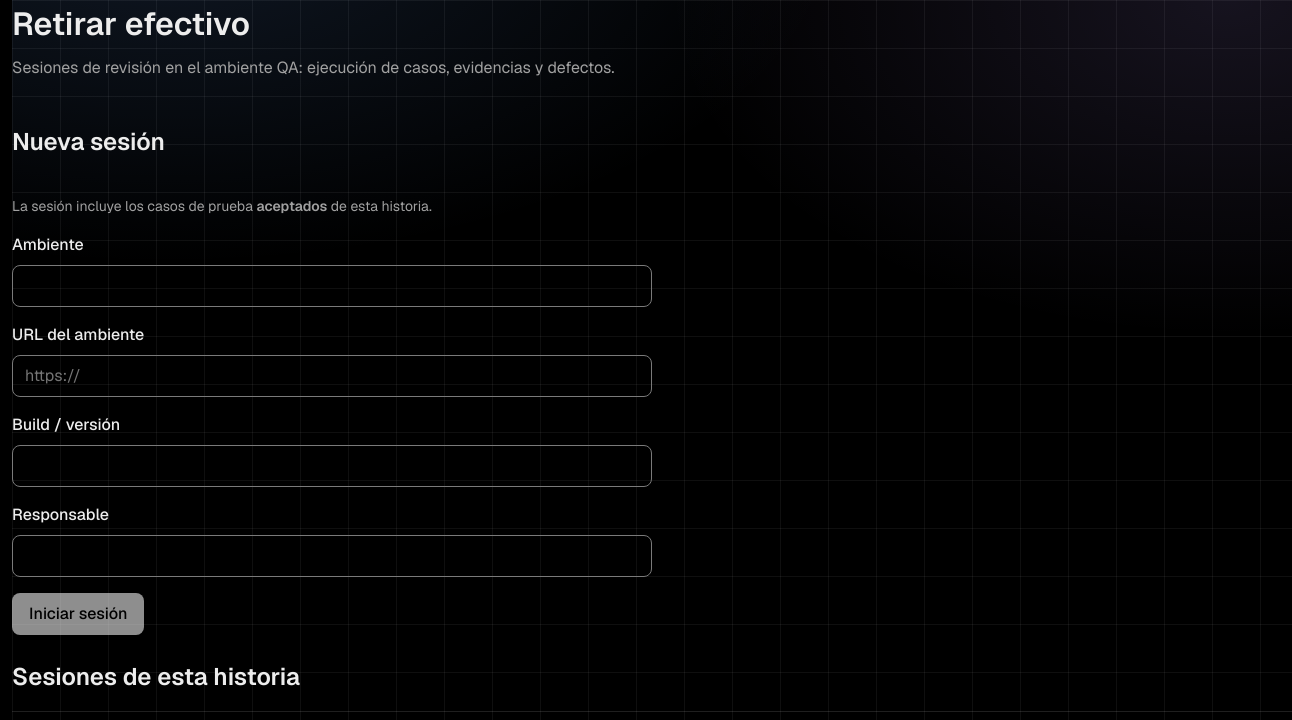
Test: SessionsPage › explica por qué no se puede iniciar sin casos aceptados
The width and height of the screenshot is (1292, 720).
Type "QA" into the field labelled "Ambiente" at (332, 286), box [12,265,652,307]
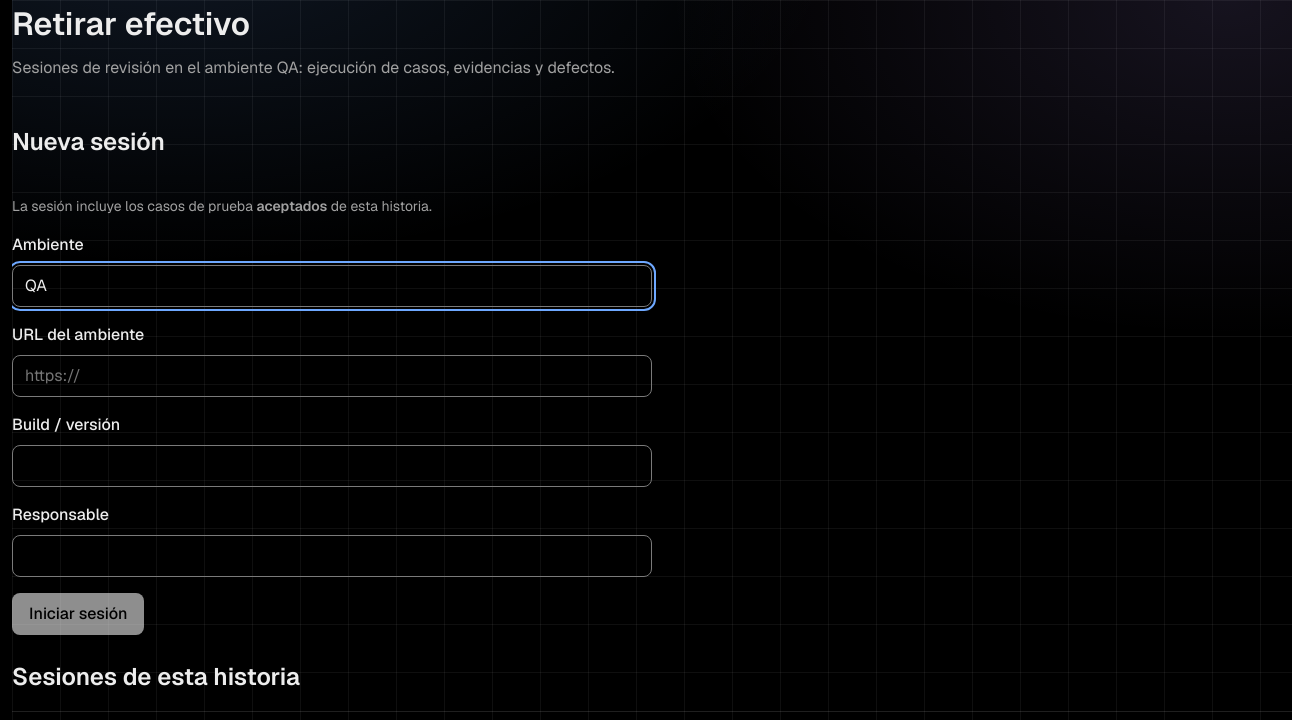
Type "https://qa.example.com" into the field labelled "URL del ambiente" at (332, 376), box [12,355,652,397]
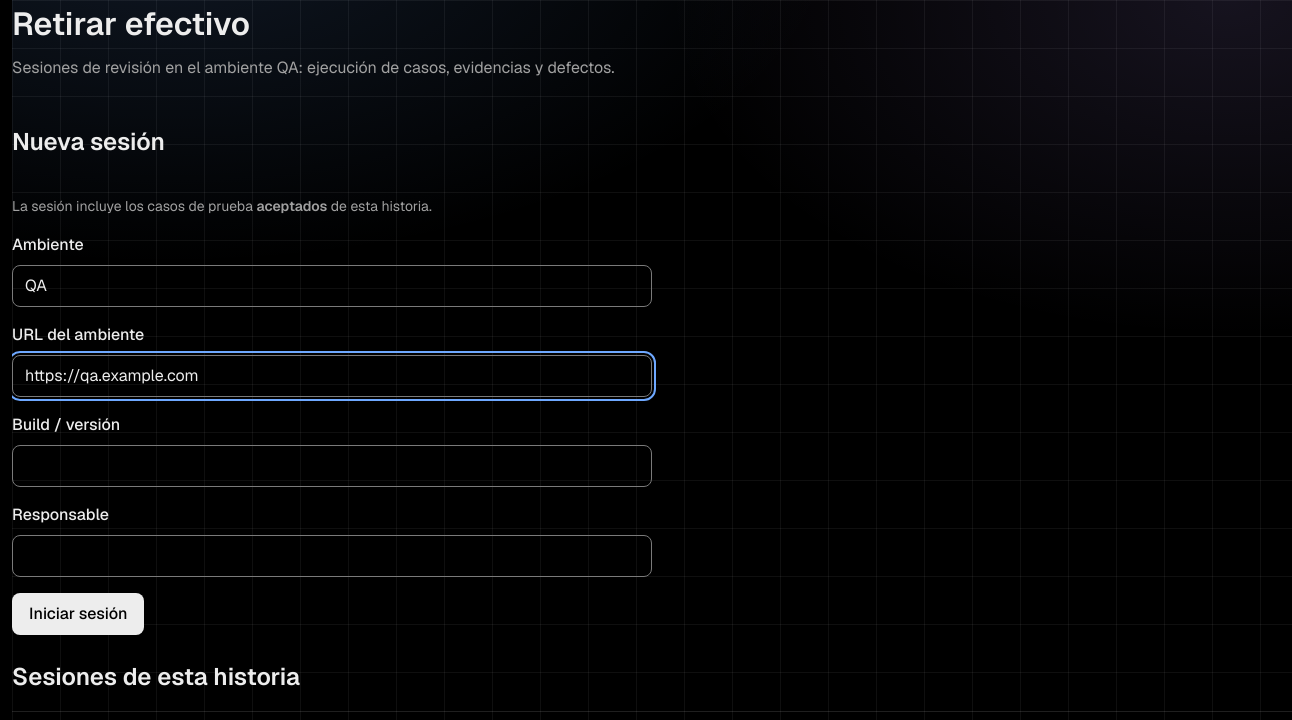
Type "1.4.2" into the field labelled "Build / versión" at (332, 466), box [12,445,652,487]
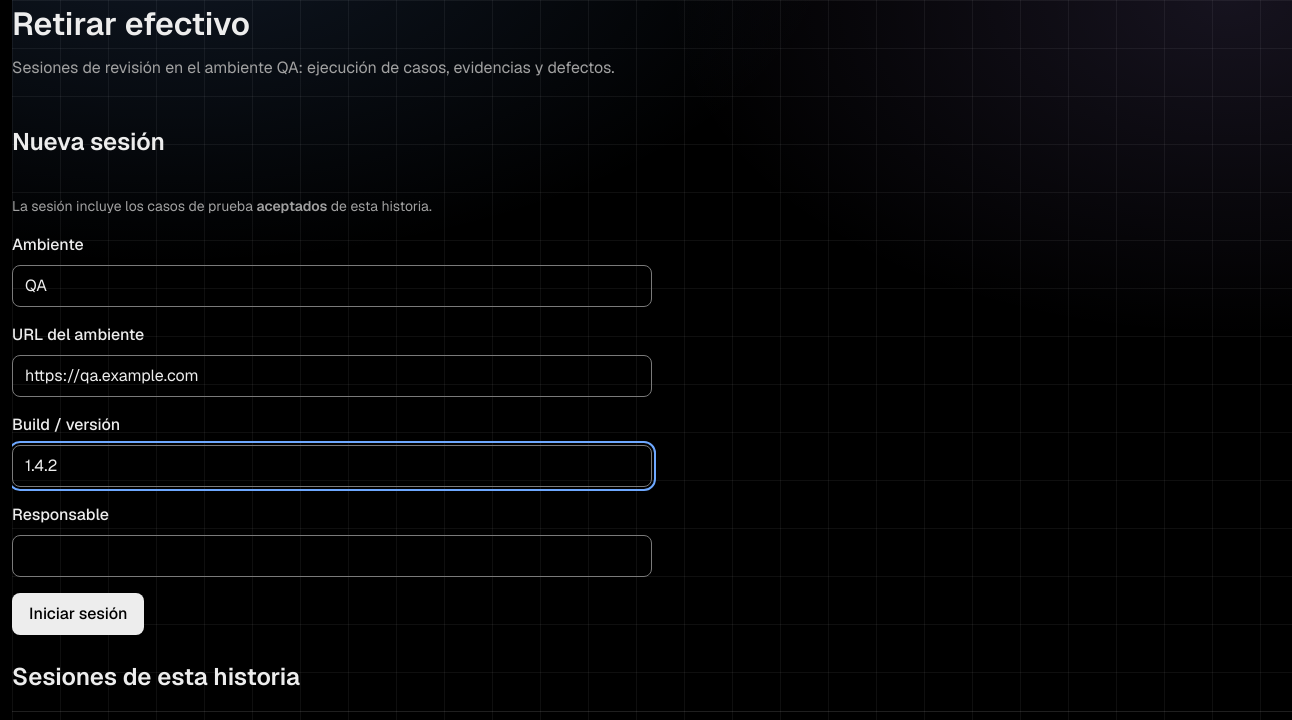
Click the button "Iniciar sesión" at (78, 614), box [12,593,144,635]
(page scrolled)
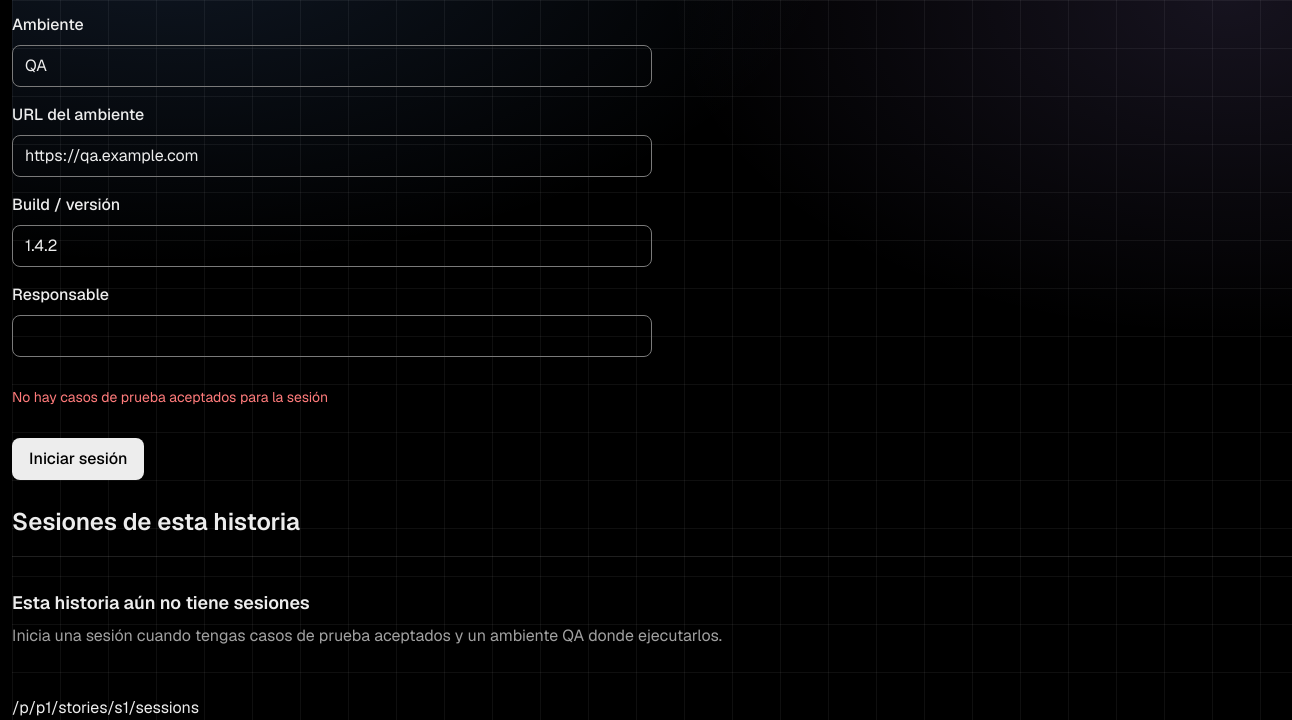
Check: the text with test id "where" reads "/p/p1/stories/s1/sessions", box [12,697,199,718]
Check: the message shows "No hay casos de prueba aceptados", box [12,388,328,406]
